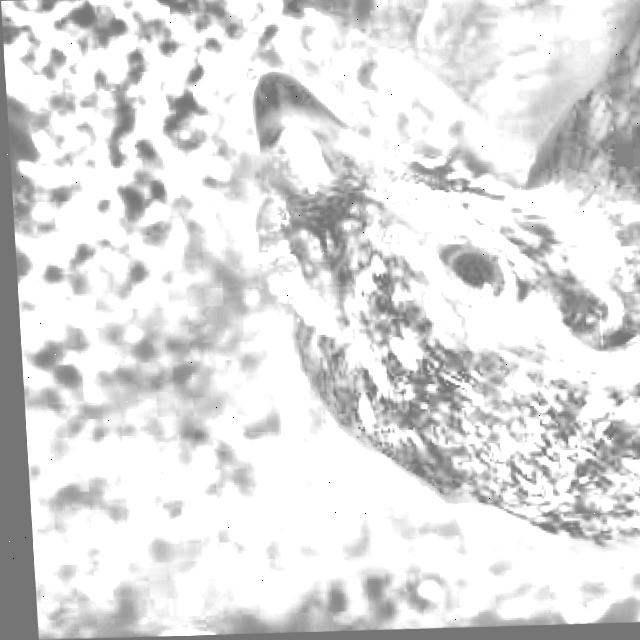Healthy: (360, 174, 534, 350)
